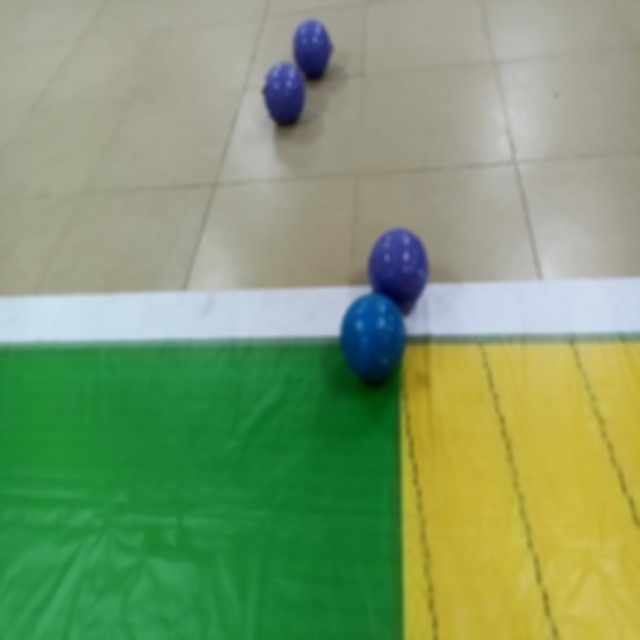blue_ball: (340, 290, 404, 393)
purple_ball: (374, 205, 432, 313), (264, 58, 310, 125), (294, 12, 335, 78)
